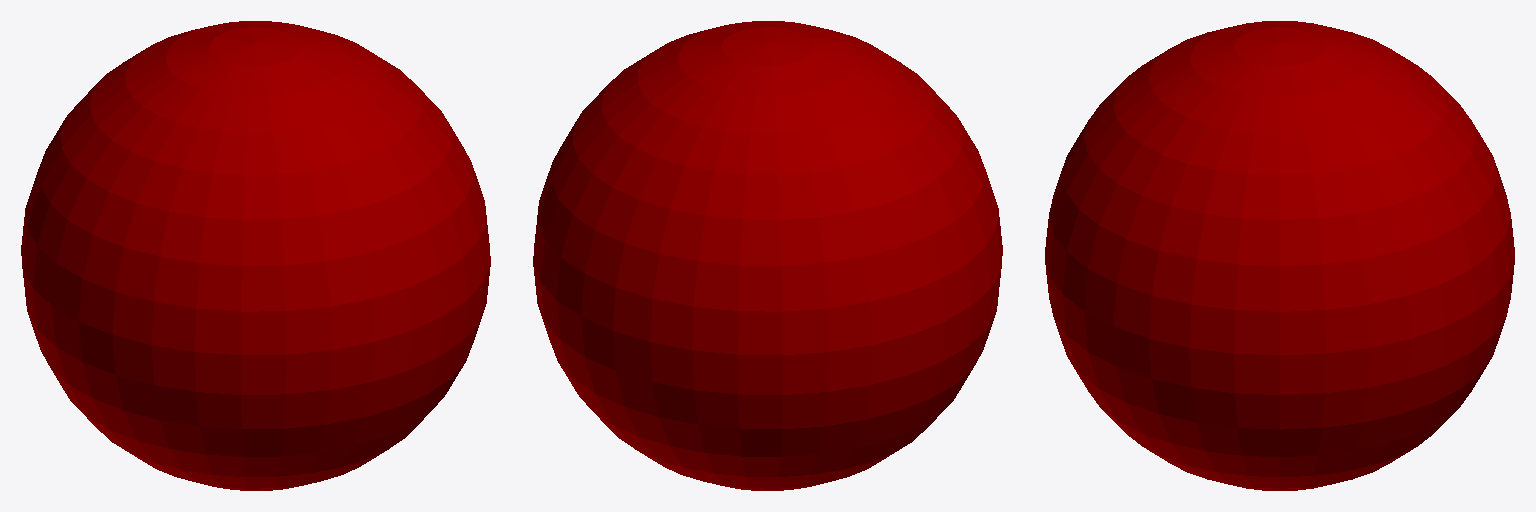
Rendered from ball.obj.
The picture shows the model from 3 angles: view 1: azimuth 30°, elevation 25°; view 2: azimuth 150°, elevation 25°; view 3: azimuth 270°, elevation 25°; orthographic projection.
Parts seen in each view (by area): view 1: Sphere; view 2: Sphere; view 3: Sphere.
Part boxes in pixels (bbox=[...]): Sphere: bbox=[21, 21, 490, 490]; Sphere: bbox=[533, 21, 1002, 490]; Sphere: bbox=[1045, 21, 1514, 490].
Bounding box in the file's own units: 1 × 1 × 1.